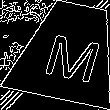M_N: (35, 22, 102, 82)
